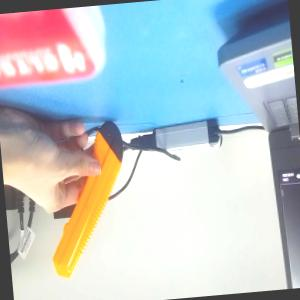estilete: (39, 118, 133, 278)
